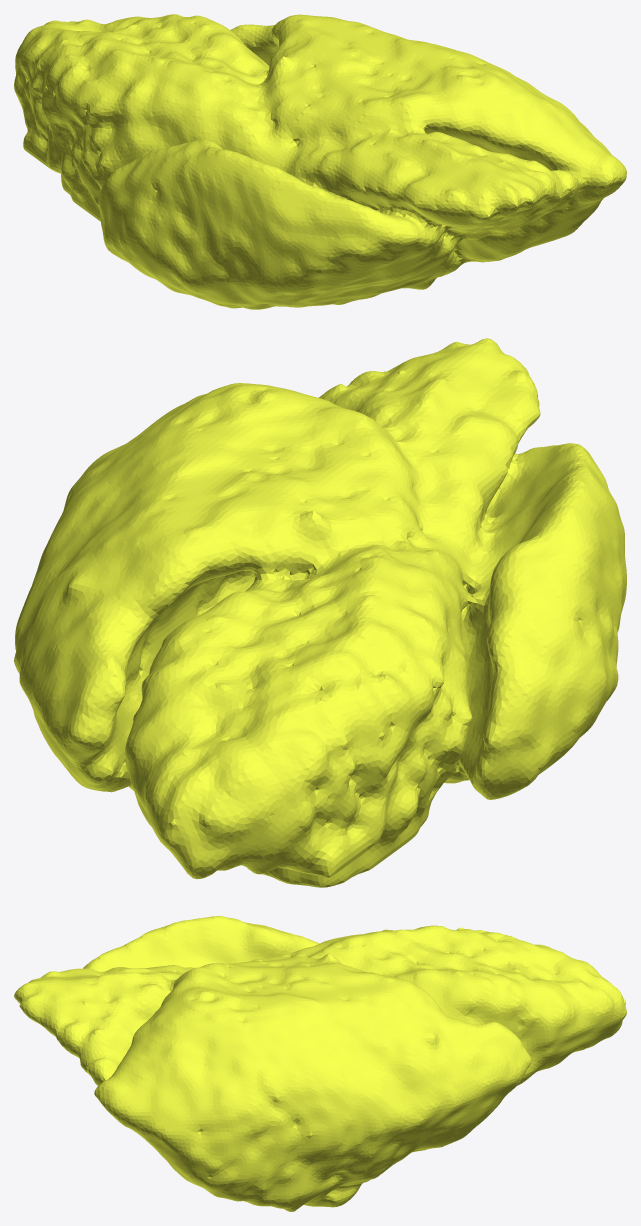
Rendered from stones.glb.
3 views of the same model, one above another, from view 1: azimuth 30°, elevation 25°; view 2: azimuth 150°, elevation 25°; view 3: azimuth 270°, elevation 25° (orthographic). The views are drawn at different scales.
Parts seen in each view (by area): view 1: stones; view 2: stones; view 3: stones.
Part boxes in pixels (x1,y1,x2,y2): stones: [14, 14, 626, 309]; stones: [14, 338, 626, 887]; stones: [14, 916, 626, 1211].
Bounding box in the file's own units: 0.0073 × 0.00404 × 0.0106.
